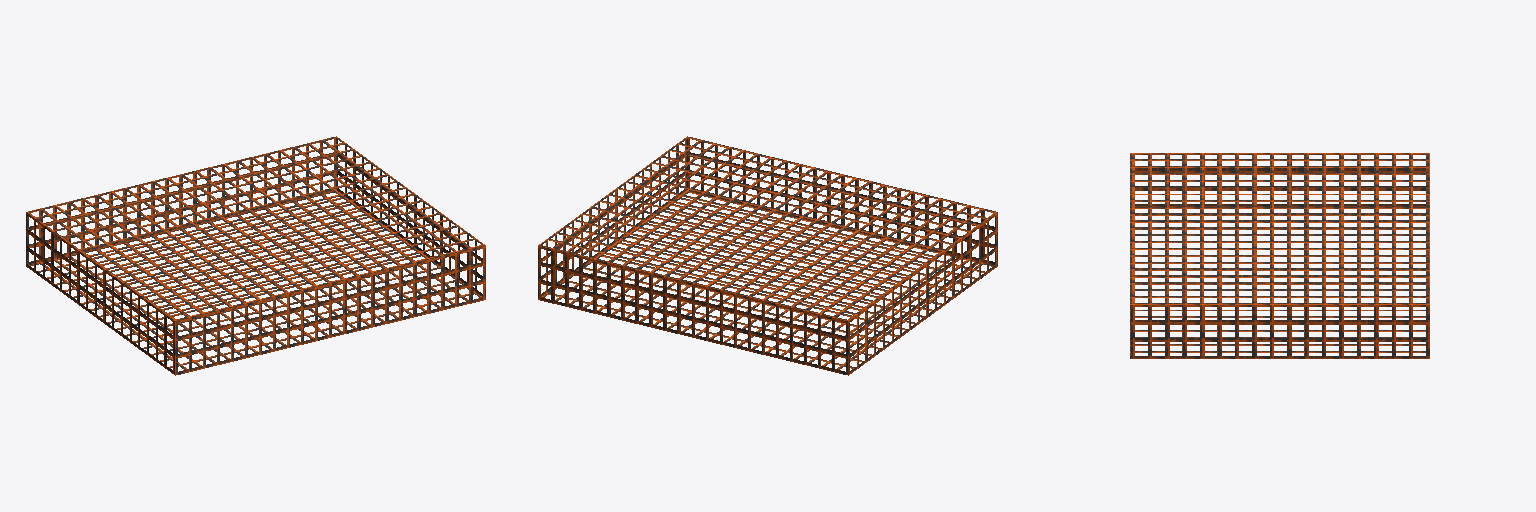
3 views of the same model, side by side, from view 1: azimuth 30°, elevation 25°; view 2: azimuth 150°, elevation 25°; view 3: azimuth 270°, elevation 25° (orthographic).
Visible parts, largest first — view 1: world_root; view 2: world_root; view 3: world_root.
Boxes of the visible parts, x1,y1,x2,y2 form: world_root: [26, 136, 485, 375]; world_root: [538, 136, 997, 375]; world_root: [1130, 153, 1429, 358].
Bounding box in the file's own units: 75 × 12.5 × 62.5.
1 materials, 1 textured.